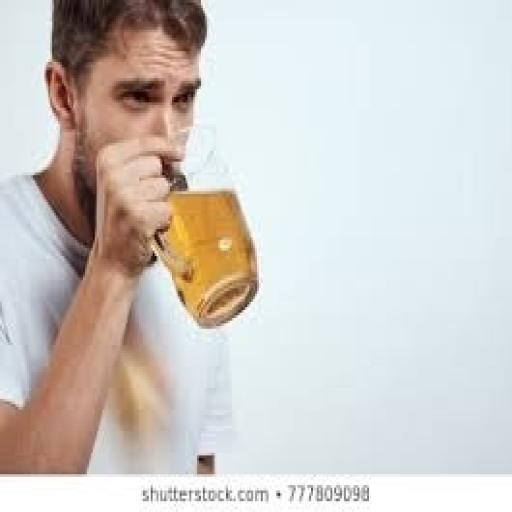drinking: (147, 124, 259, 329)
